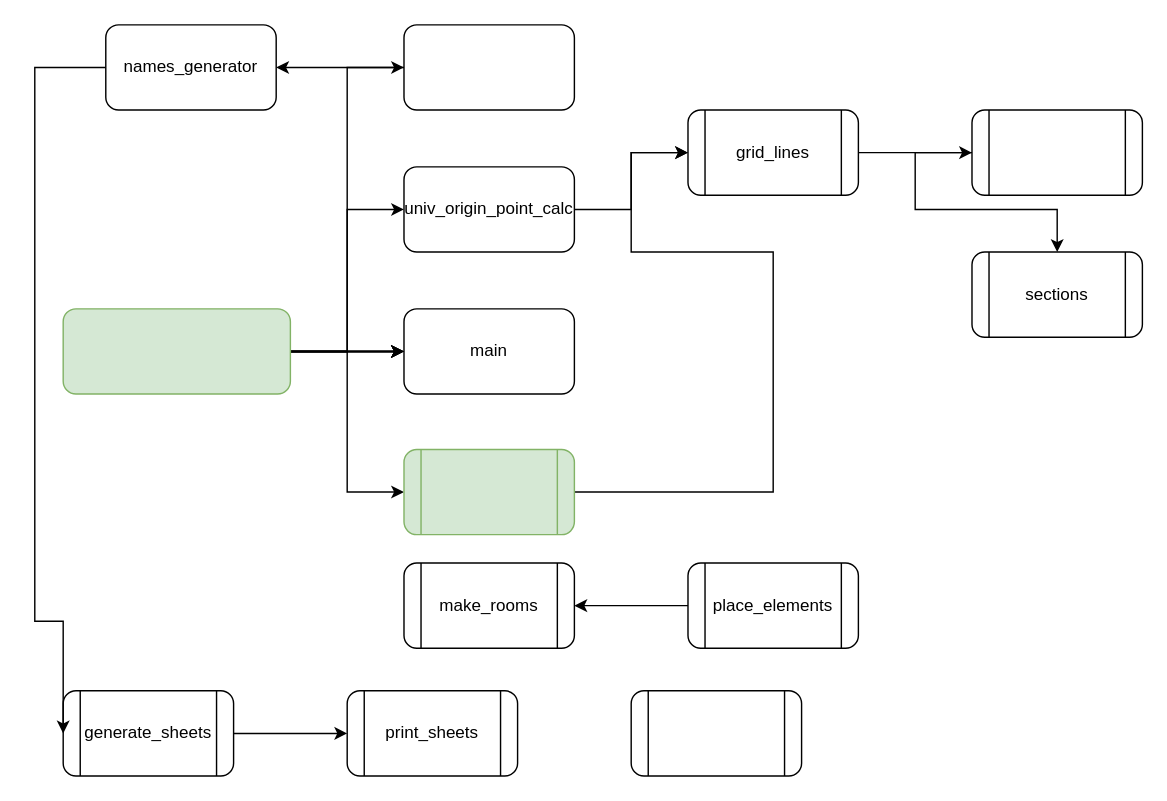
Some shapes in this 1167 by 801 pixel diagram are drawn without their labels. The centre of each missing label's shape, as x and y in pixels:
"building_loc_calc" goes at (x=488, y=66).
"building_parameters_input" goes at (x=176, y=350).
"elevations" goes at (x=1056, y=152).
"generate_csv" goes at (x=716, y=732).
"levels_gen" goes at (x=488, y=491).
